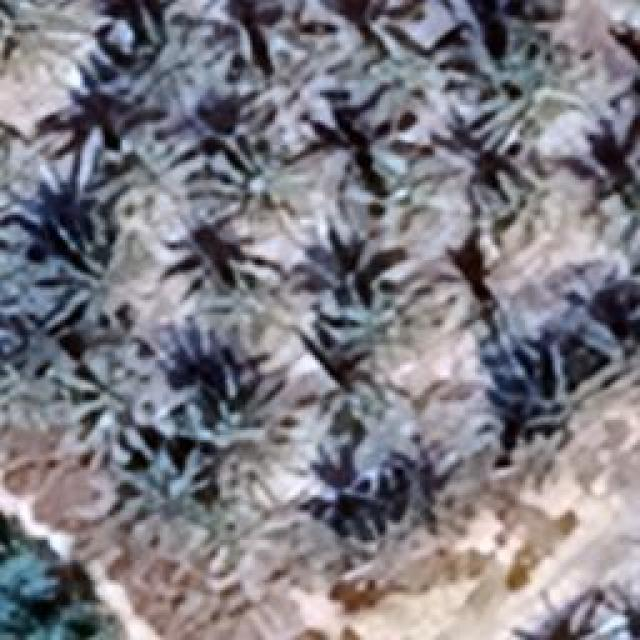PalmTree: (445, 29, 600, 182), (170, 362, 315, 516), (35, 205, 155, 345), (64, 340, 188, 475), (230, 22, 350, 142), (0, 0, 110, 128), (187, 125, 315, 233), (328, 418, 438, 527), (331, 146, 434, 259), (303, 274, 412, 364), (96, 144, 204, 234), (511, 341, 601, 444), (200, 253, 295, 346), (464, 180, 562, 270), (120, 16, 210, 110), (350, 32, 435, 126), (122, 450, 210, 536), (519, 581, 640, 640), (585, 262, 640, 378), (0, 335, 58, 435), (592, 144, 640, 249), (0, 132, 47, 214)
